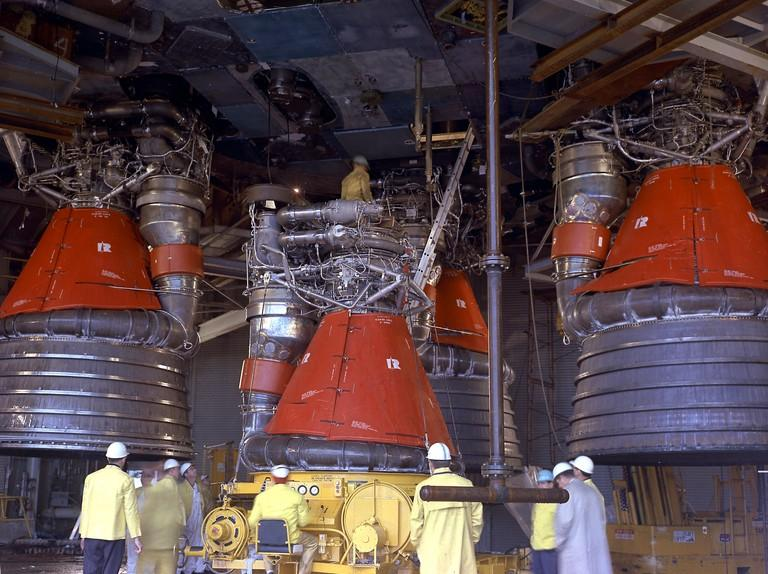thruster: (561, 162, 768, 467), (0, 208, 198, 461), (236, 306, 468, 484), (401, 268, 531, 476)
